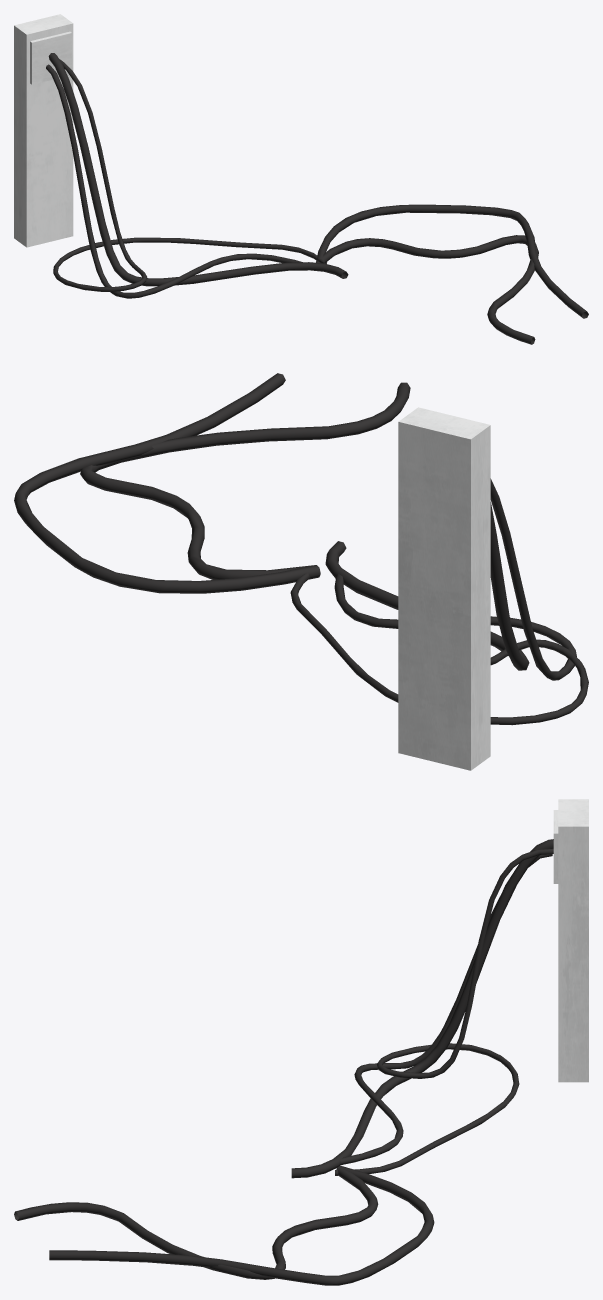
File: cables.fbx
The picture shows the model from 3 angles, top to bottom: view 1: azimuth 30°, elevation 25°; view 2: azimuth 150°, elevation 25°; view 3: azimuth 270°, elevation 25°; orthographic projection. The views are drawn at different scales.
Parts seen in each view (by area): view 1: NurbsPath, Cube.001, Cube; view 2: Cube.001, NurbsPath; view 3: NurbsPath, Cube.001.
Boxes of the visible parts, x1,y1,x2,y2 form: NurbsPath: (46,53,588,344); Cube.001: (14,14,73,247); Cube: (30,31,71,84); Cube.001: (398,407,490,770); NurbsPath: (14,373,588,725); NurbsPath: (14,839,553,1285); Cube.001: (558,799,588,1082).
Size of the model in its own units: 1141 by 579 by 1152.
